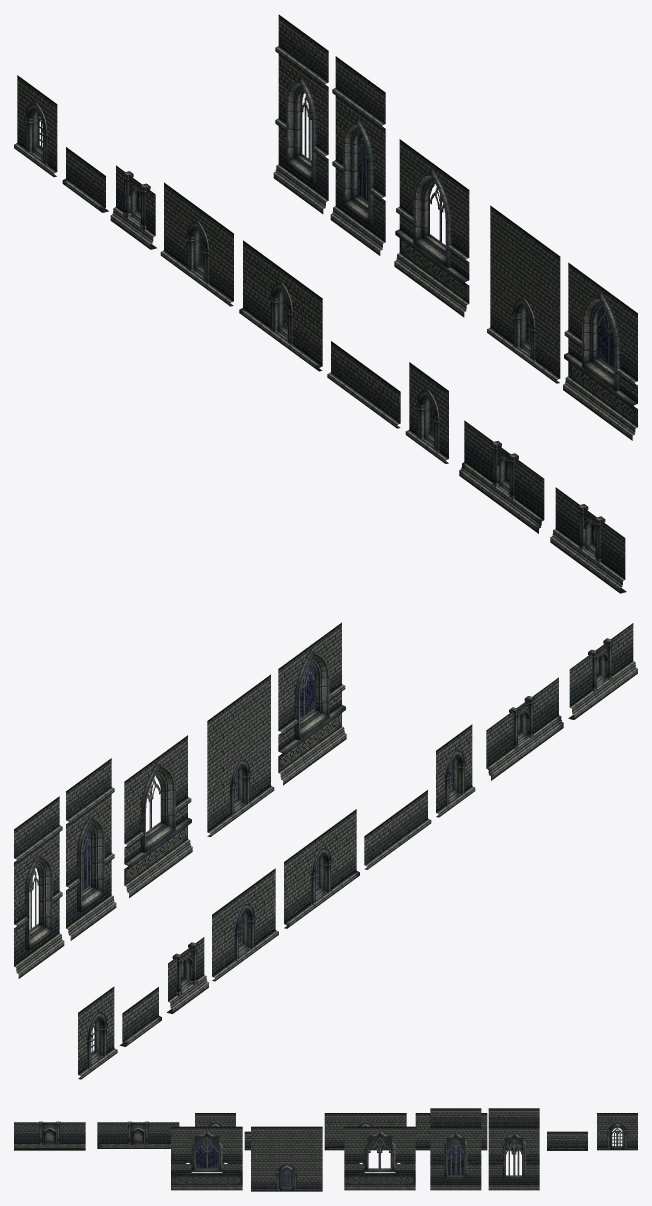
Rendered from EnvMdrMD_Daiseidou_A_Wall_Window_A_4W_End.FBX.
3 views of the same model, one above another, from view 1: azimuth 30°, elevation 25°; view 2: azimuth 150°, elevation 25°; view 3: azimuth 270°, elevation 25° (orthographic). The views are drawn at different scales.
Parts seen in each view (by area): view 1: EnvMdrMD_Daiseidou_A_Wall_Window_Room_6W_A, EnvMdrMD_Daiseidou_A_Wall_Window_A_6W_Loop_B, EnvMdrMD_Daiseidou_A_Wall_Window_Room_6W_A_Broken, EnvMdrMD_Daiseidou_A_Wall_Window_Entrance_6W_A, EnvMdrMD_Daiseidou_A_Wall_Window_Entrance_6W_A_Broken, EnvMdrMD_Daiseidou_A_Wall_Window_A_7W_Loop, EnvMdrMD_Daiseidou_A_Wall_Window_A_6W_Loop, EnvMdrMD_Daiseidou_A_Wall_Window_A_7W_Start, EnvMdrMD_Daiseidou_A_Wall_Window_A_6W_Start, EnvMdrMD_Daiseidou_A_Wall_Window_A_4W_Loop_Broken, EnvMdrMD_Daiseidou_A_Wall_Window_A_4W_Loop, EnvMdrMD_Daiseidou_A_Wall_Window_A_6W_End (+2 smaller); view 2: EnvMdrMD_Daiseidou_A_Wall_Window_Room_6W_A, EnvMdrMD_Daiseidou_A_Wall_Window_A_6W_Loop_B, EnvMdrMD_Daiseidou_A_Wall_Window_Room_6W_A_Broken, EnvMdrMD_Daiseidou_A_Wall_Window_Entrance_6W_A, EnvMdrMD_Daiseidou_A_Wall_Window_Entrance_6W_A_Broken, EnvMdrMD_Daiseidou_A_Wall_Window_A_7W_Loop, EnvMdrMD_Daiseidou_A_Wall_Window_A_6W_Loop, EnvMdrMD_Daiseidou_A_Wall_Window_A_7W_Start, EnvMdrMD_Daiseidou_A_Wall_Window_A_6W_Start, EnvMdrMD_Daiseidou_A_Wall_Window_A_4W_Loop, EnvMdrMD_Daiseidou_A_Wall_Window_A_4W_Loop_Broken, EnvMdrMD_Daiseidou_A_Wall_Window_A_6W_End (+2 smaller); view 3: EnvMdrMD_Daiseidou_A_Wall_Window_A_6W_Loop_B, EnvMdrMD_Daiseidou_A_Wall_Window_Room_6W_A, EnvMdrMD_Daiseidou_A_Wall_Window_Room_6W_A_Broken, EnvMdrMD_Daiseidou_A_Wall_Window_Entrance_6W_A, EnvMdrMD_Daiseidou_A_Wall_Window_Entrance_6W_A_Broken, EnvMdrMD_Daiseidou_A_Wall_Window_A_6W_Start, EnvMdrMD_Daiseidou_A_Wall_Window_A_7W_Start, EnvMdrMD_Daiseidou_A_Wall_Window_A_7W_Loop, EnvMdrMD_Daiseidou_A_Wall_Window_A_4W_Loop_Broken, EnvMdrMD_Daiseidou_A_Wall_Window_A_6W_Loop, EnvMdrMD_Daiseidou_A_Wall_Window_A_4W_End, EnvMdrMD_Daiseidou_A_Wall_Window_A_4W_Loop.
Part boxes in pixels (x1,y1,x2,y2): EnvMdrMD_Daiseidou_A_Wall_Window_Room_6W_A: (563,262,637,440); EnvMdrMD_Daiseidou_A_Wall_Window_A_6W_Loop_B: (487,205,560,383); EnvMdrMD_Daiseidou_A_Wall_Window_Room_6W_A_Broken: (394,139,469,317); EnvMdrMD_Daiseidou_A_Wall_Window_Entrance_6W_A: (330,56,385,255); EnvMdrMD_Daiseidou_A_Wall_Window_Entrance_6W_A_Broken: (273,14,328,213); EnvMdrMD_Daiseidou_A_Wall_Window_A_7W_Loop: (239,240,322,371); EnvMdrMD_Daiseidou_A_Wall_Window_A_6W_Loop: (160,182,233,306); EnvMdrMD_Daiseidou_A_Wall_Window_A_7W_Start: (459,420,544,533); EnvMdrMD_Daiseidou_A_Wall_Window_A_6W_Start: (550,487,626,593); EnvMdrMD_Daiseidou_A_Wall_Window_A_4W_Loop_Broken: (14,75,57,177); EnvMdrMD_Daiseidou_A_Wall_Window_A_4W_Loop: (405,362,448,463); EnvMdrMD_Daiseidou_A_Wall_Window_A_6W_End: (327,341,400,428); EnvMdrMD_Daiseidou_A_Wall_Window_Room_6W_A: (278,622,346,785); EnvMdrMD_Daiseidou_A_Wall_Window_A_6W_Loop_B: (207,674,274,837); EnvMdrMD_Daiseidou_A_Wall_Window_Room_6W_A_Broken: (124,735,192,897); EnvMdrMD_Daiseidou_A_Wall_Window_Entrance_6W_A: (66,758,116,940); EnvMdrMD_Daiseidou_A_Wall_Window_Entrance_6W_A_Broken: (14,796,64,978); EnvMdrMD_Daiseidou_A_Wall_Window_A_7W_Loop: (284,809,359,928); EnvMdrMD_Daiseidou_A_Wall_Window_A_6W_Loop: (212,868,278,981); EnvMdrMD_Daiseidou_A_Wall_Window_A_7W_Start: (486,677,563,780); EnvMdrMD_Daiseidou_A_Wall_Window_A_6W_Start: (568,623,637,719); EnvMdrMD_Daiseidou_A_Wall_Window_A_4W_Loop: (436,724,475,817); EnvMdrMD_Daiseidou_A_Wall_Window_A_4W_Loop_Broken: (78,986,117,1079); EnvMdrMD_Daiseidou_A_Wall_Window_A_6W_End: (364,790,431,869); EnvMdrMD_Daiseidou_A_Wall_Window_A_6W_Loop_B: (251,1126,322,1191); EnvMdrMD_Daiseidou_A_Wall_Window_Room_6W_A: (171,1126,242,1190); EnvMdrMD_Daiseidou_A_Wall_Window_Room_6W_A_Broken: (344,1126,415,1190); EnvMdrMD_Daiseidou_A_Wall_Window_Entrance_6W_A: (430,1108,481,1190); EnvMdrMD_Daiseidou_A_Wall_Window_Entrance_6W_A_Broken: (488,1108,539,1190); EnvMdrMD_Daiseidou_A_Wall_Window_A_6W_Start: (14,1121,85,1150); EnvMdrMD_Daiseidou_A_Wall_Window_A_7W_Start: (97,1121,179,1148); EnvMdrMD_Daiseidou_A_Wall_Window_A_7W_Loop: (324,1113,406,1150); EnvMdrMD_Daiseidou_A_Wall_Window_A_4W_Loop_Broken: (597,1113,637,1150); EnvMdrMD_Daiseidou_A_Wall_Window_A_6W_Loop: (415,1113,487,1150); EnvMdrMD_Daiseidou_A_Wall_Window_A_4W_End: (547,1131,587,1150); EnvMdrMD_Daiseidou_A_Wall_Window_A_4W_Loop: (195,1113,235,1126).
Size of the model in its own units: 1030 by 900 by 6099.
1 material, 1 textured.
